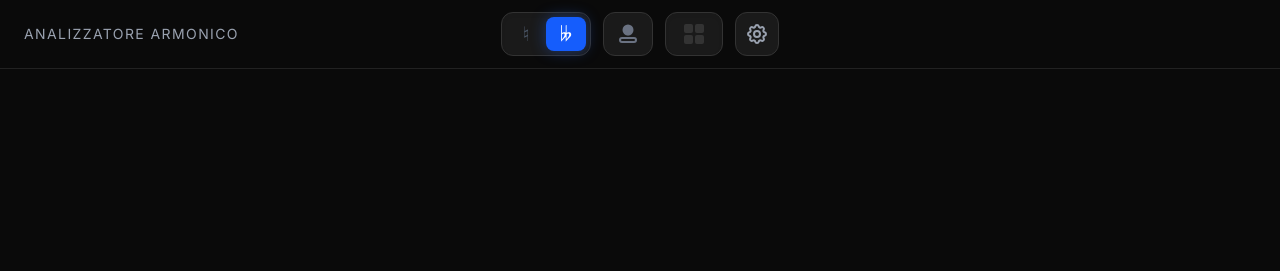
Test: AppToolbar › shows tooltips on hover
The image size is (1280, 271).
Step 1. Hover over the button with class "tooltip-trigger" → (546,34), box [501, 12, 591, 56]
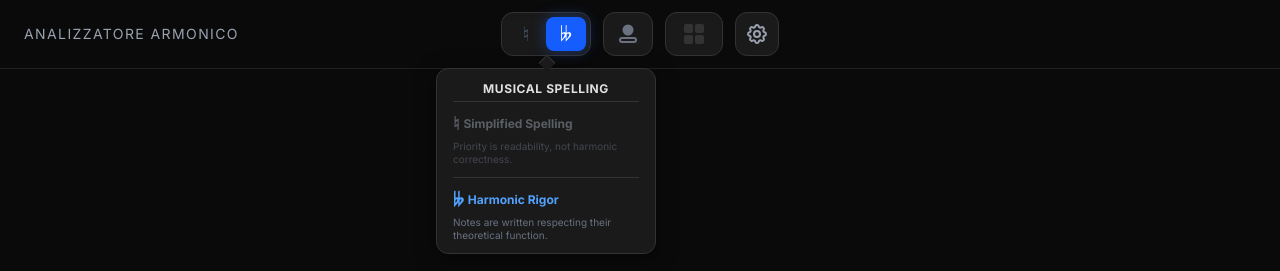
Now the text "MUSICAL SPELLING" is shown, box [453, 81, 639, 102]
